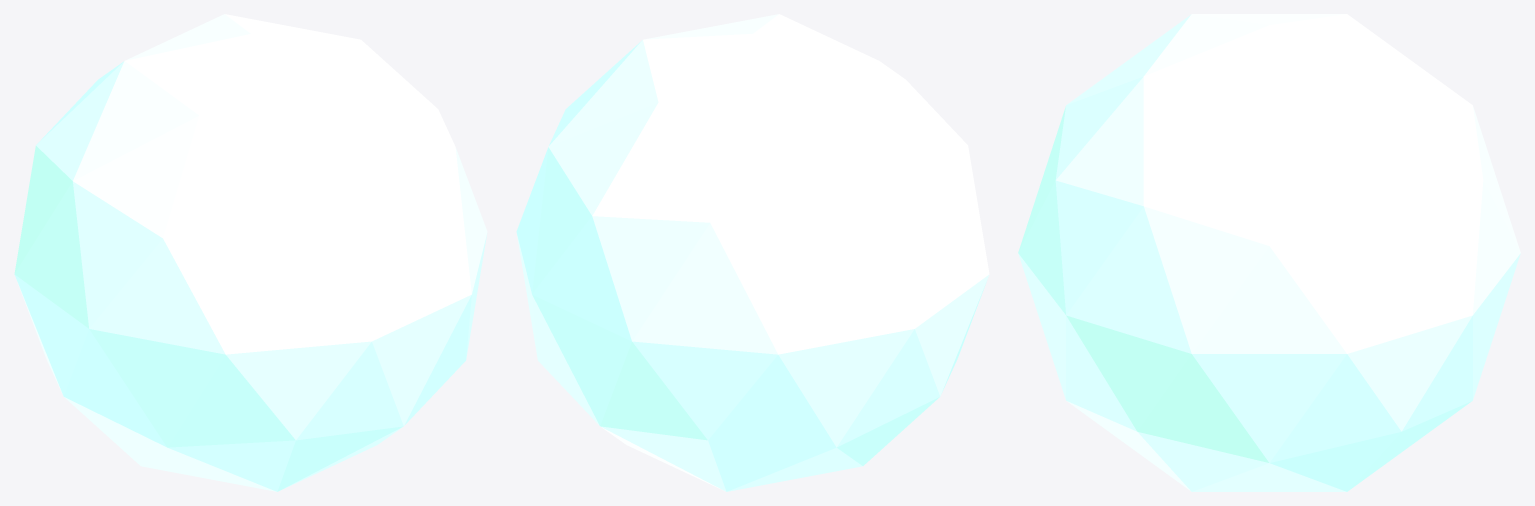
File: Orbe_Verde.glb
3 views of the same model, side by side, from view 1: azimuth 30°, elevation 25°; view 2: azimuth 150°, elevation 25°; view 3: azimuth 270°, elevation 25° (orthographic). The views are drawn at different scales.
Parts seen in each view (by area): view 1: Icosphere.001; view 2: Icosphere.001; view 3: Icosphere.001.
Boxes of the visible parts, left/top/right/bottom form: Icosphere.001: left=14, top=14, right=487, bottom=491; Icosphere.001: left=516, top=14, right=989, bottom=491; Icosphere.001: left=1018, top=14, right=1520, bottom=491.
Bounding box in the file's own units: 0.1902 × 0.2 × 0.2.
